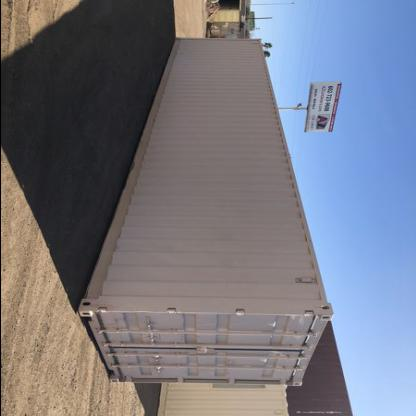Damage: (241, 46, 263, 64), (277, 352, 294, 374)
